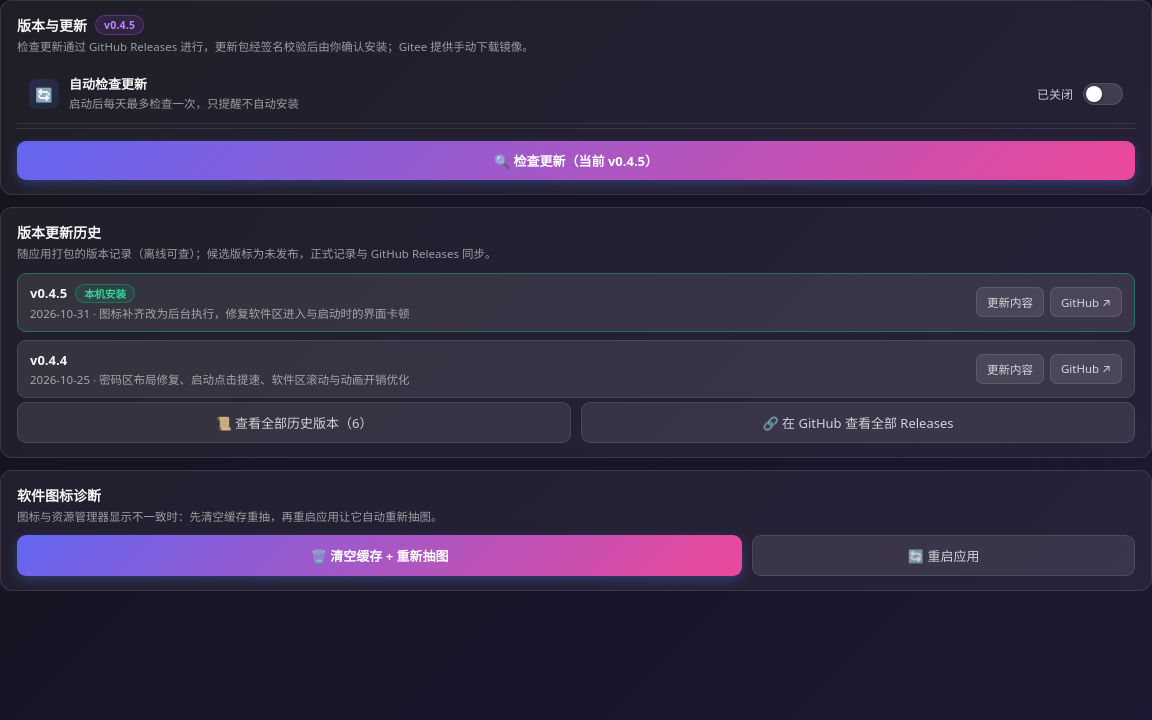
Scenario: v0.4.5 released history in the existing settings UI › shows the installed released entry on top, keeps v0.4.4 released entry, and includes it in the all-records panel
Check: the element showing "v0.4.5 本机安装" is shown, box [30,284,135,303]
Check: the text "2026-10-31 · 图标补齐改为后台执行，修复软件区进入与启动时的界面卡顿" is shown, box [30,306,410,321]
# 展开候选条目 notes
Click the button "更新内容" in the row of "2026-10-31 · 图标补齐改为后台执行，修复软件区进入与启动时的界面卡顿": (1010, 302) [976,287,1044,317]
(page scrolled)
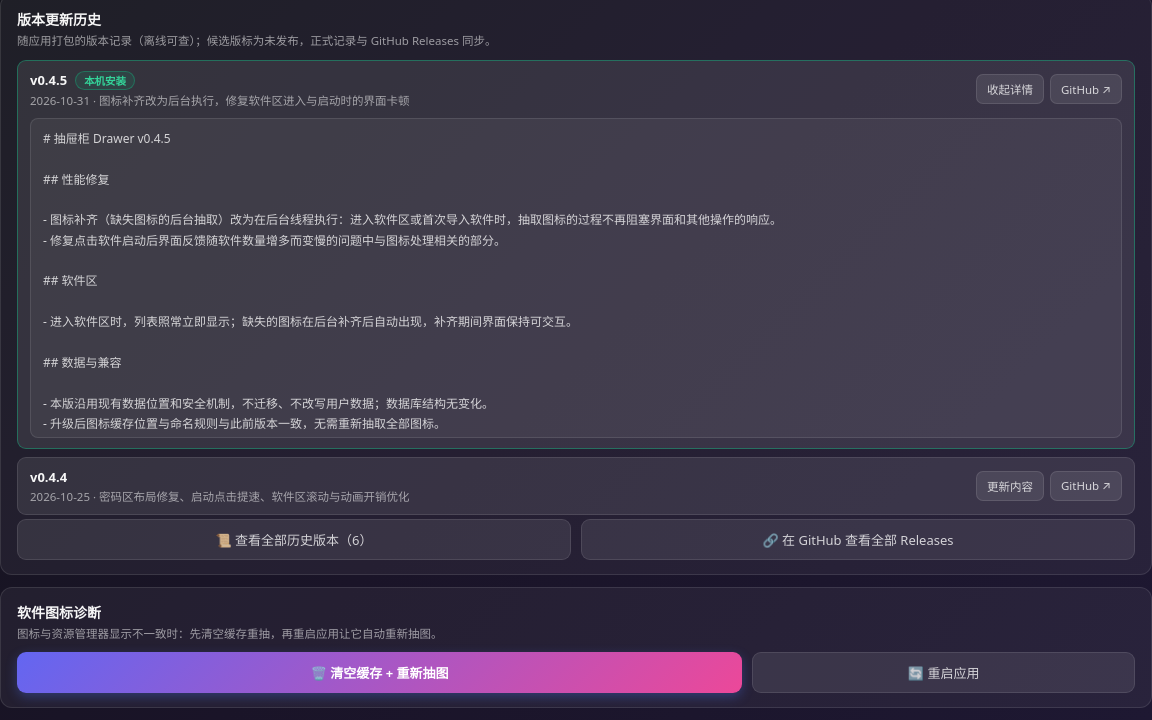
Check: the text "# 抽屉柜 Drawer v0.4.5 ## 性能修复 - 图标补齐（缺失图标的后台抽取）改为在后台线程执行：进入软件区或首次导入软件时，抽取图标的过程不再阻塞界面和其他操作的响应。 - 修复点击软件启动后界面反馈随软件数量增多而变慢的问题中与图标处理相关的部分。 ## 软件区 - 进入软件区时，列表照常立即显示；缺失" is shown, box [43,130,782,554]
Check: the text "性能修复" is shown, box [43,130,782,554]
Check: the text "软件区" is shown, box [30,118,1122,438]
Click the button "📜 查看全部历史版本（6）": (294, 539) [17,519,571,560]
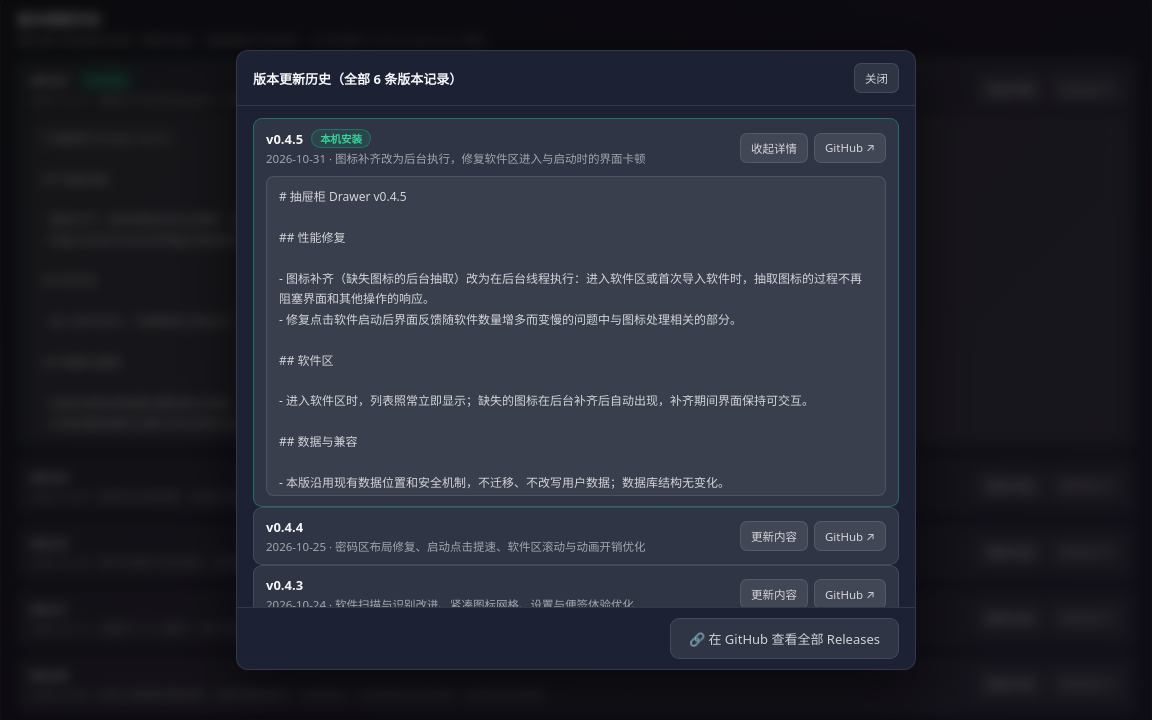
Check: the element that starts with "v0.4.5" is shown, box [266,130,303,148]
Check: the element that starts with "v0.4.5" shows "2026-10-31", box [266,151,646,166]
Check: the text "# 抽屉柜 Drawer v0.4.5 ## 性能修复 - 图标补齐（缺失图标的后台抽取）改为在后台线程执行：进入软件区或首次导入软件时，抽取图标的过程不再阻塞界面和其他操作的响应。 - 修复点击软件启动后界面反馈随软件数量增多而变慢的问题中与图标处理相关的部分。 ## 软件区 - 进入软件区时，列表照常立即显示；缺失" is shown, box [279,188,862,607]
